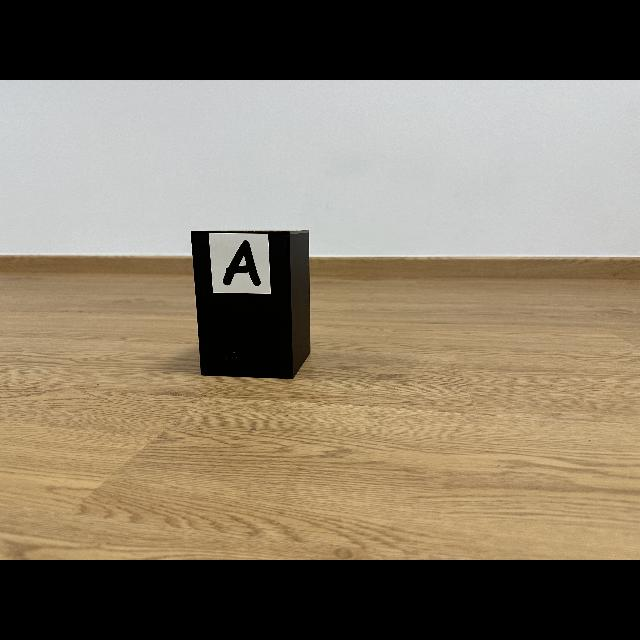A: (222, 240, 261, 286)
